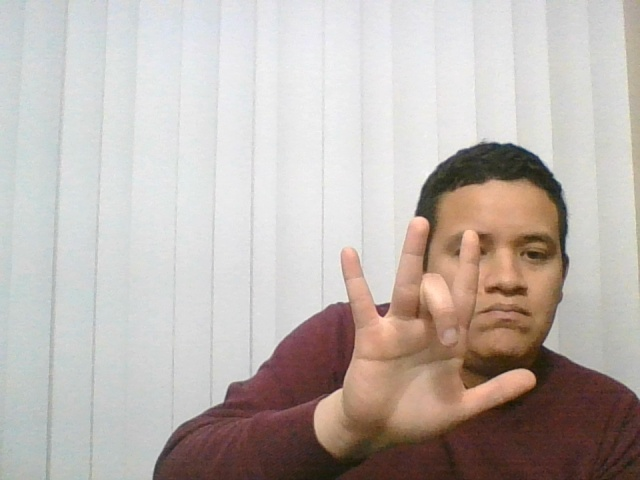Eight: (294, 204, 547, 460)
